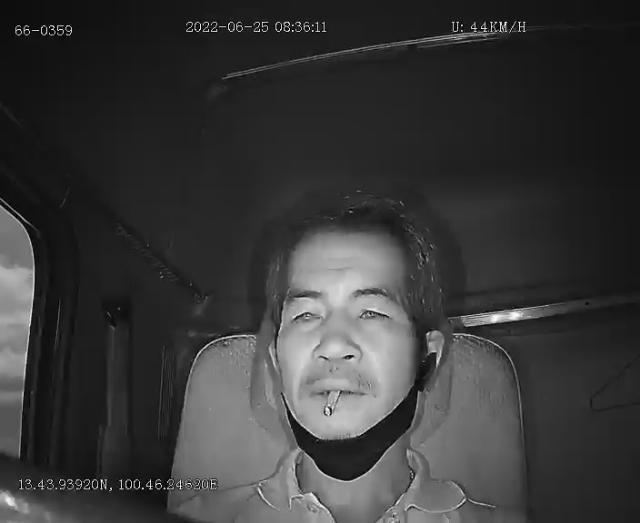SafeDriving: (283, 294, 330, 330), (349, 293, 397, 327)
Smoking: (322, 389, 340, 421)
